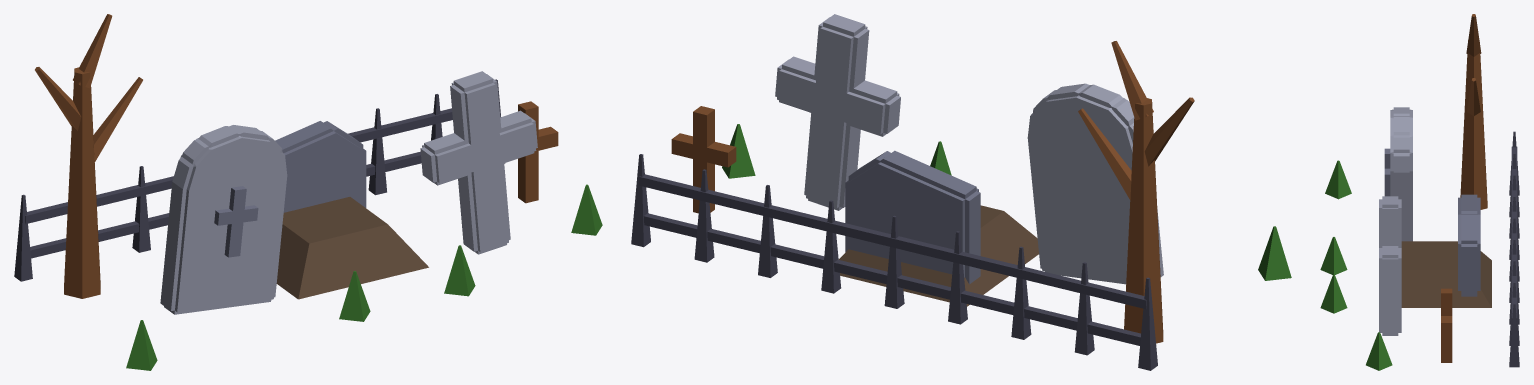
File: graveyard-2x1.glb
3 renders of one model, left to right at view 1: azimuth 30°, elevation 25°; view 2: azimuth 150°, elevation 25°; view 3: azimuth 270°, elevation 25°, orthographic. The views are drawn at different scales.
Parts seen in each view (by area): view 1: graveyard-2x1; view 2: graveyard-2x1; view 3: graveyard-2x1.
Boxes of the visible parts, x1,y1,x2,y2 form: graveyard-2x1: (14,14,602,370); graveyard-2x1: (631,14,1291,370); graveyard-2x1: (1320,14,1519,370).
Size of the model in its own units: 2 by 1.04 by 0.9193.
1 material, 1 textured.
